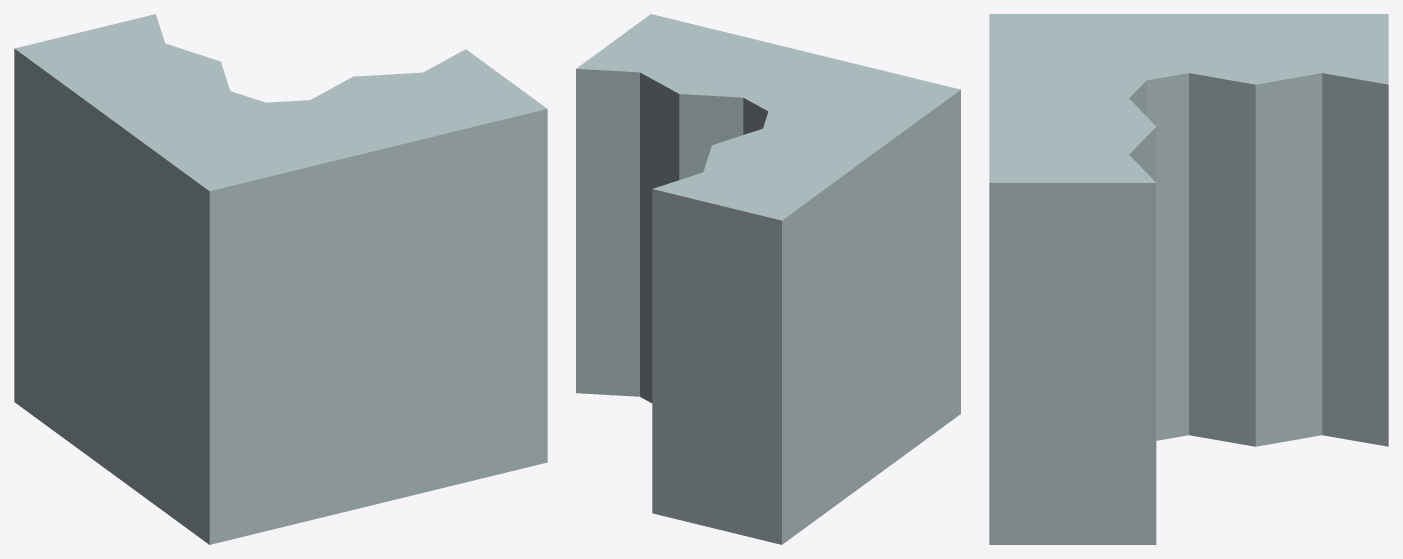
The model's file is cliff_cornerInnerLarge_stone.glb.
3 views of the same model, side by side, from view 1: azimuth 30°, elevation 25°; view 2: azimuth 150°, elevation 25°; view 3: azimuth 270°, elevation 25° (orthographic). The views are drawn at different scales.
Parts seen in each view (by area): view 1: cliff_cornerInnerLarge_stone; view 2: cliff_cornerInnerLarge_stone; view 3: cliff_cornerInnerLarge_stone.
Boxes of the visible parts, x1,y1,x2,y2 form: cliff_cornerInnerLarge_stone: (14,14,547,544); cliff_cornerInnerLarge_stone: (576,14,960,544); cliff_cornerInnerLarge_stone: (989,14,1388,544).
Bounding box in the file's own units: 1 × 1 × 1.
